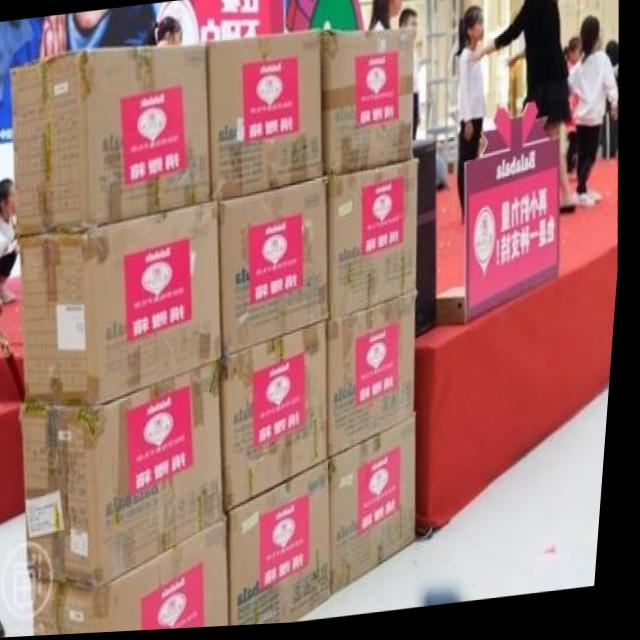box: (31, 362, 232, 589), (22, 205, 227, 408), (11, 50, 214, 237), (38, 523, 238, 637), (207, 32, 326, 203), (228, 327, 335, 513), (220, 183, 332, 358), (233, 465, 340, 629), (336, 418, 424, 599), (330, 164, 421, 324), (332, 298, 421, 461), (321, 31, 416, 179)
